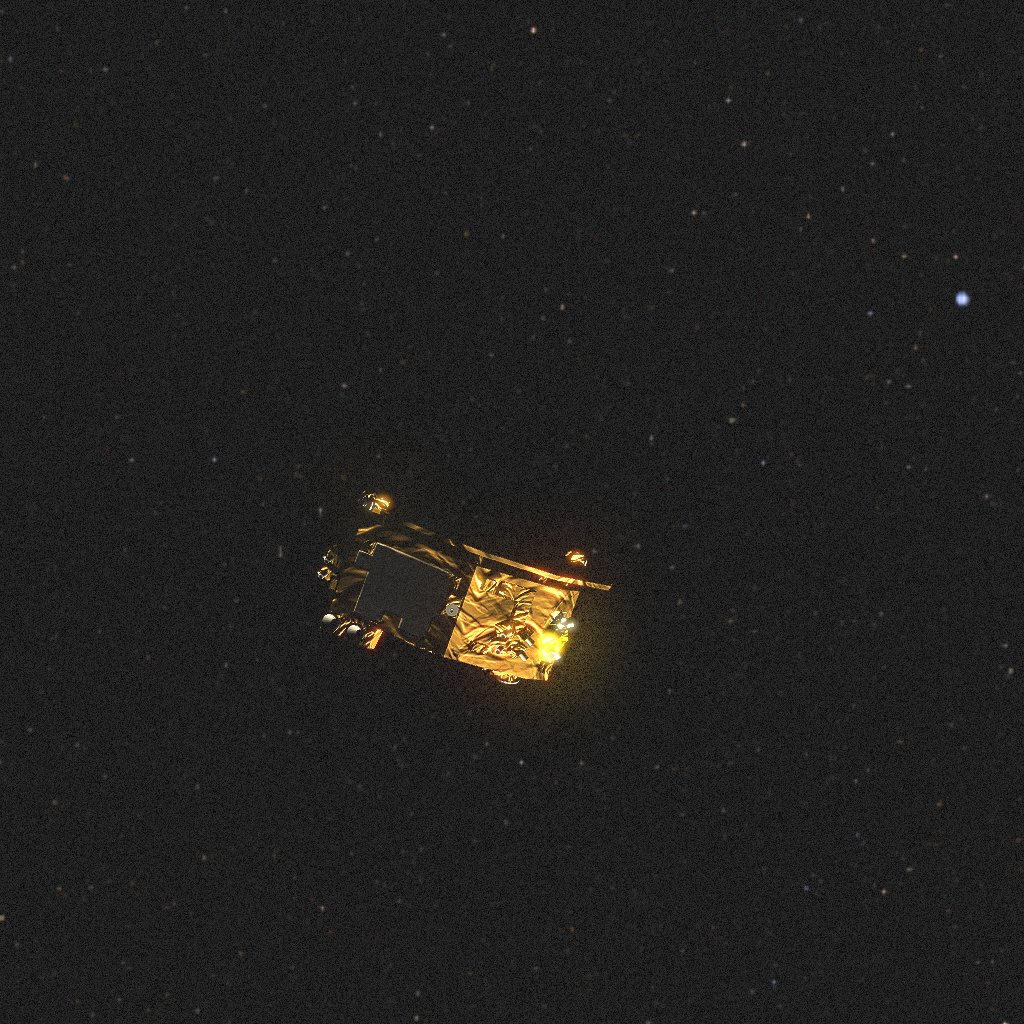lisa_pathfinder: (310, 455, 602, 695)
